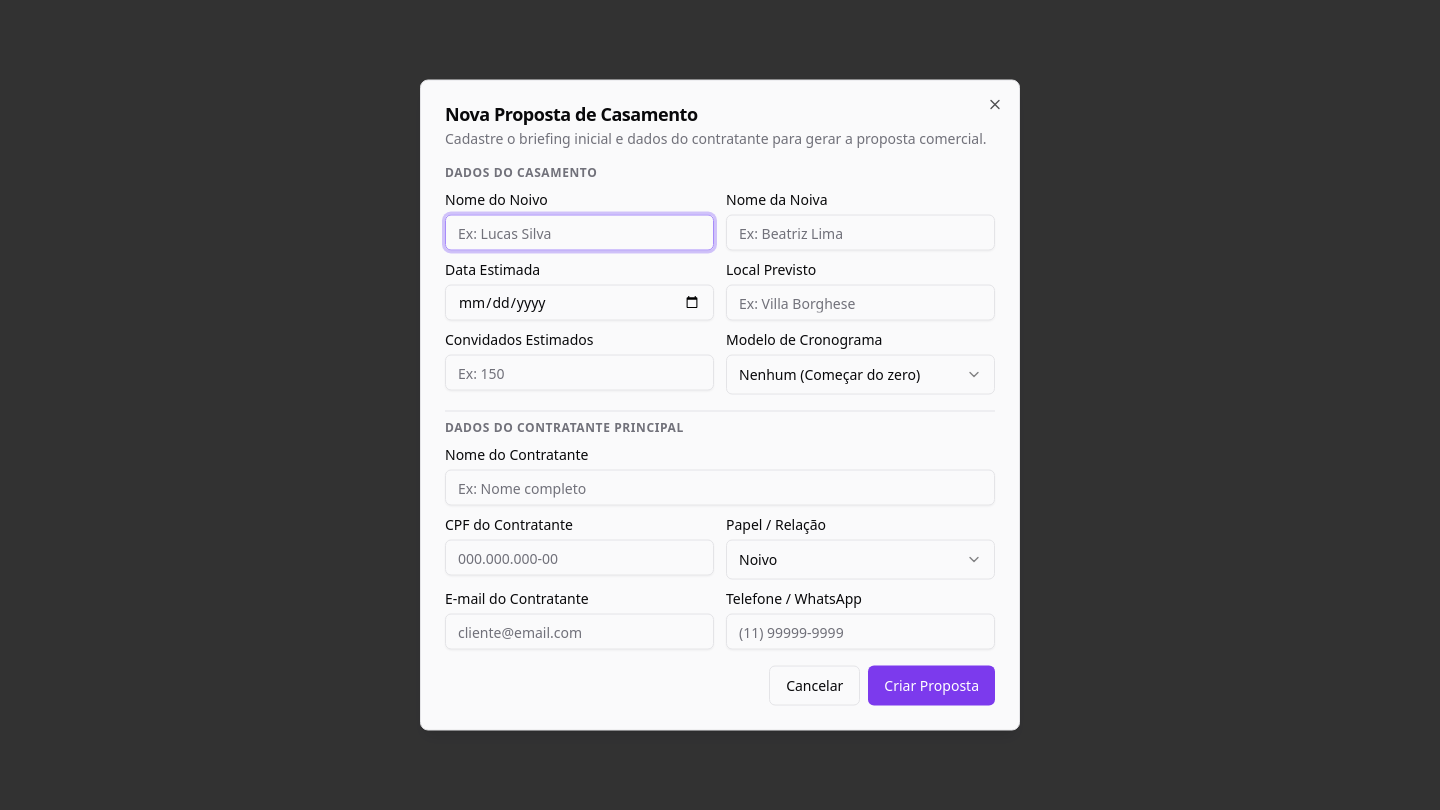
CreateProposalDialog › shows validation error when required fields are empty
Click the button "Criar Proposta".
click(932, 686)  # box [868, 666, 995, 706]
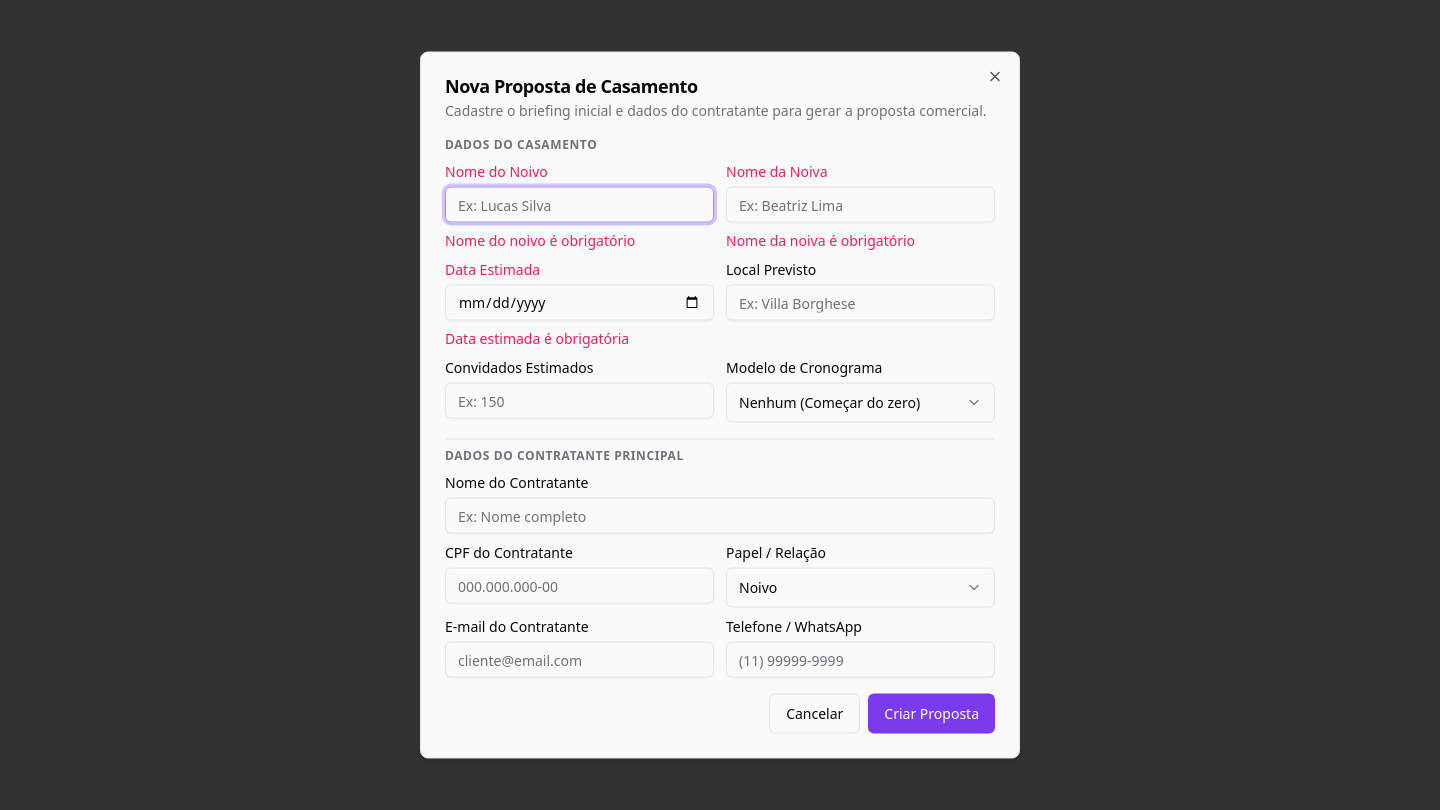
Expected: the text "Nome do noivo é obrigatório" is shown, [445, 230, 635, 250]
Expected: the text "Nome da noiva é obrigatório" is shown, [726, 230, 915, 250]
